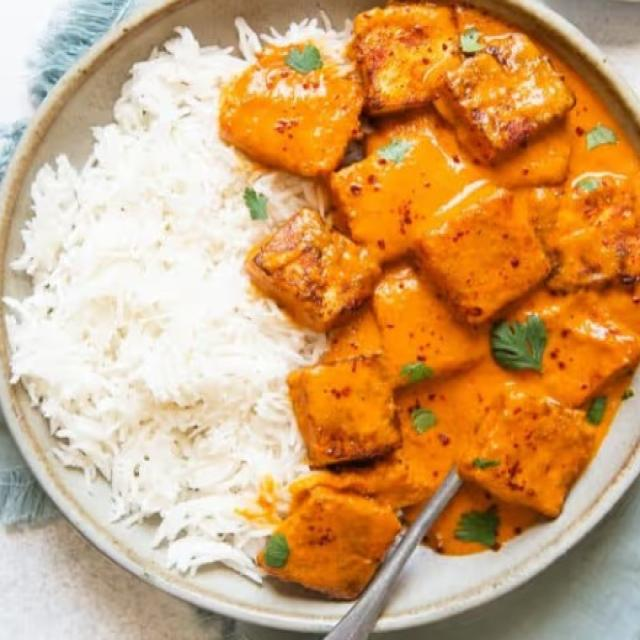RICE: (20, 33, 306, 566)
